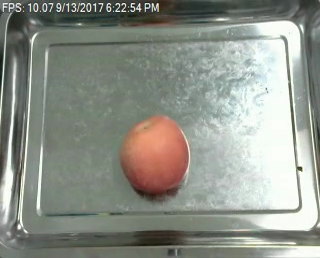Apple: (121, 117, 187, 194)
